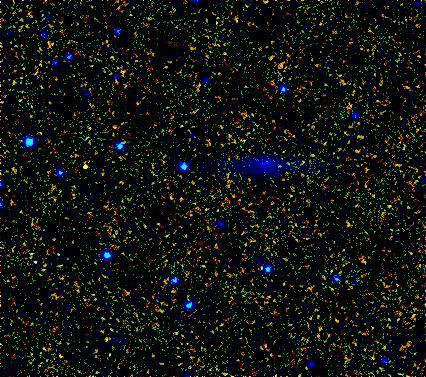star: (70, 152, 100, 182)
